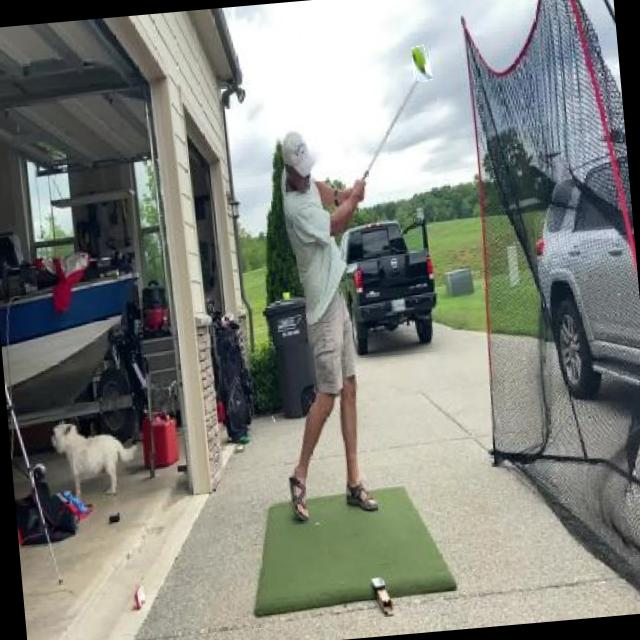club head: (411, 44, 432, 82)
